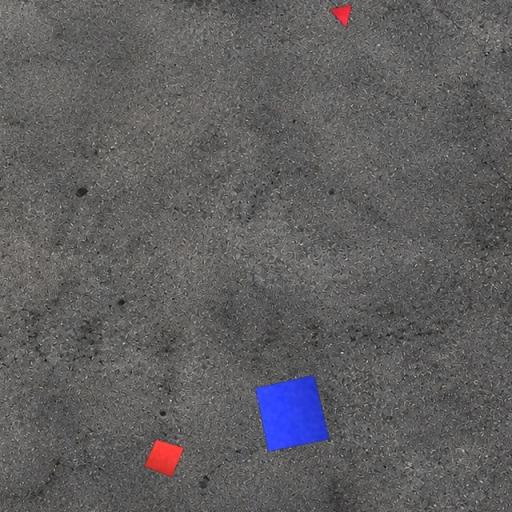BLUE_SQUARE: (254, 374, 330, 452)
RED_SQUARE: (144, 439, 185, 478)
